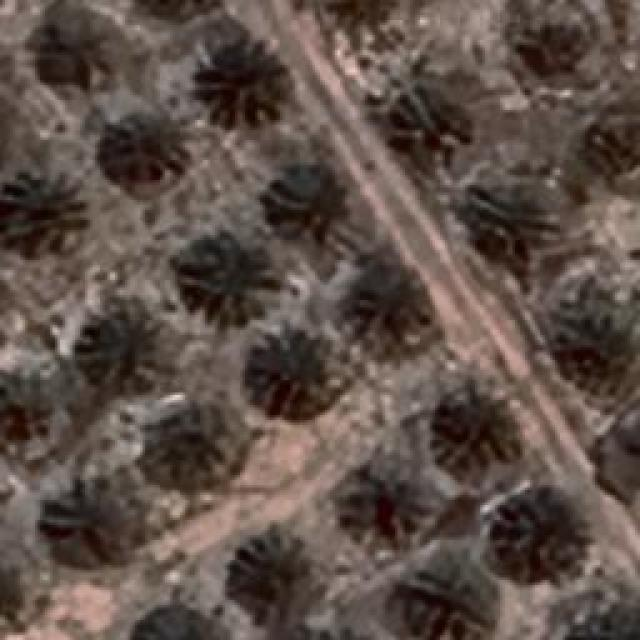PalmTree: (136, 404, 249, 492), (190, 30, 288, 128), (474, 182, 576, 276), (396, 558, 506, 638), (240, 324, 332, 418), (78, 298, 170, 390), (182, 235, 278, 323), (235, 536, 330, 619), (427, 382, 515, 470), (340, 254, 435, 334), (340, 458, 435, 532), (494, 492, 588, 566), (54, 488, 148, 562), (0, 172, 85, 250), (30, 11, 118, 84), (102, 115, 188, 185), (388, 86, 470, 159), (570, 307, 638, 395), (518, 9, 598, 79), (267, 170, 345, 235), (0, 362, 55, 448), (128, 598, 222, 640), (306, 0, 412, 32), (595, 106, 640, 179), (0, 552, 40, 634), (129, 0, 225, 23)
